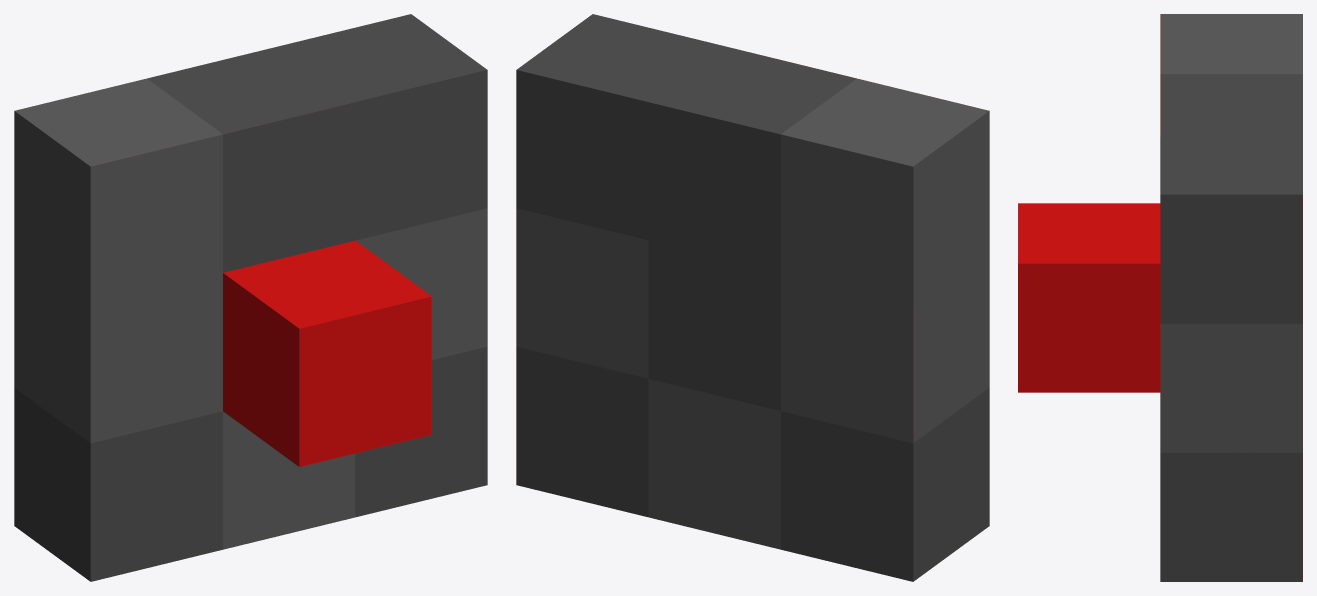
The model's file is Button_Wall_Small_Red.glb.
3 renders of one model, left to right at view 1: azimuth 30°, elevation 25°; view 2: azimuth 150°, elevation 25°; view 3: azimuth 270°, elevation 25°, orthographic. The views are drawn at different scales.
Parts seen in each view (by area): view 1: Button_Wall_Small_Red; view 2: Button_Wall_Small_Red; view 3: Button_Wall_Small_Red.
Boxes of the visible parts, x1,y1,x2,y2 form: Button_Wall_Small_Red: (14, 14, 487, 581); Button_Wall_Small_Red: (516, 14, 989, 581); Button_Wall_Small_Red: (1018, 14, 1302, 581).
Size of the model in its own units: 0.3 by 0.3 by 0.2.
1 material, 1 textured.
